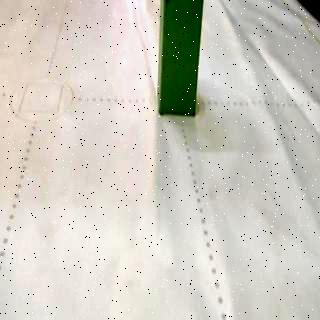greenbox: (157, 1, 205, 116)
